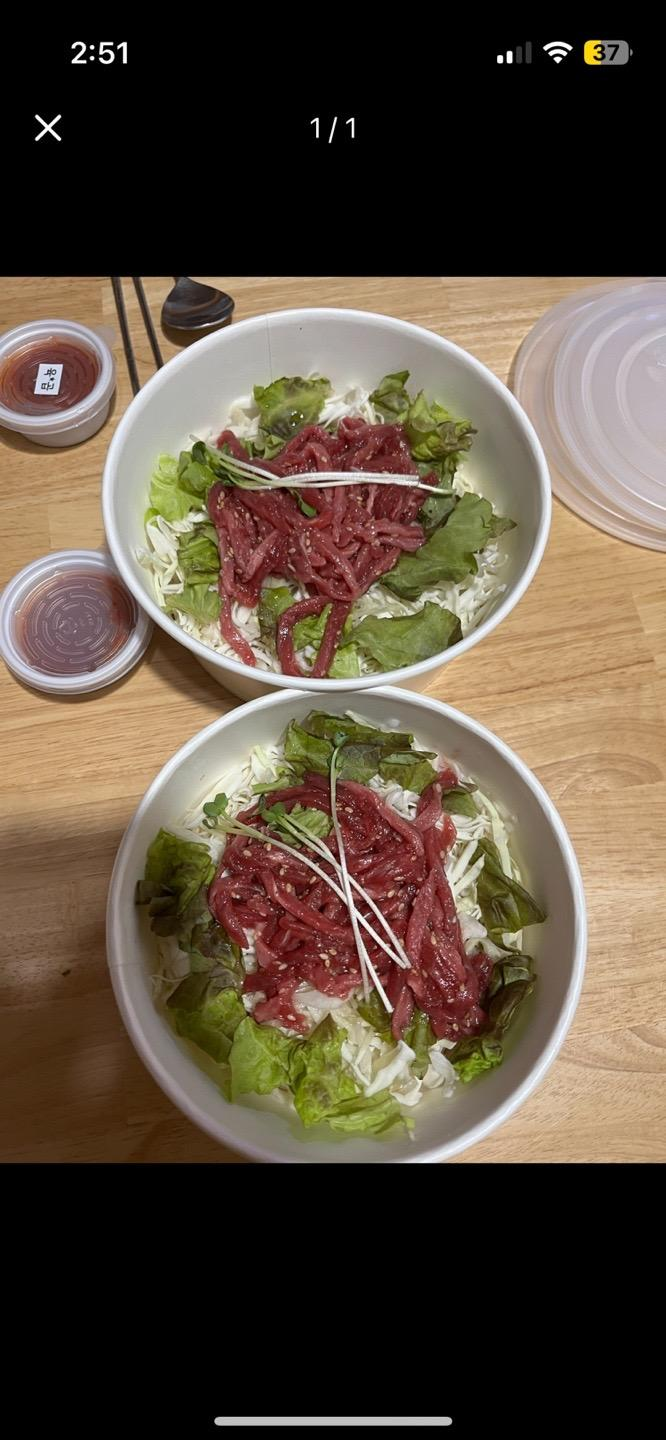Lunch Box: (107, 687, 586, 1162), (102, 308, 551, 699), (514, 277, 665, 550)
cup: (0, 549, 152, 698), (0, 319, 115, 447)
